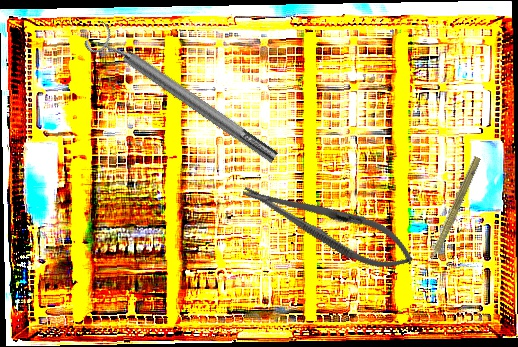Fixation Ring: (82, 17, 284, 174)
Handpiece: (420, 153, 483, 273)
Needle Holder: (235, 168, 421, 282)
